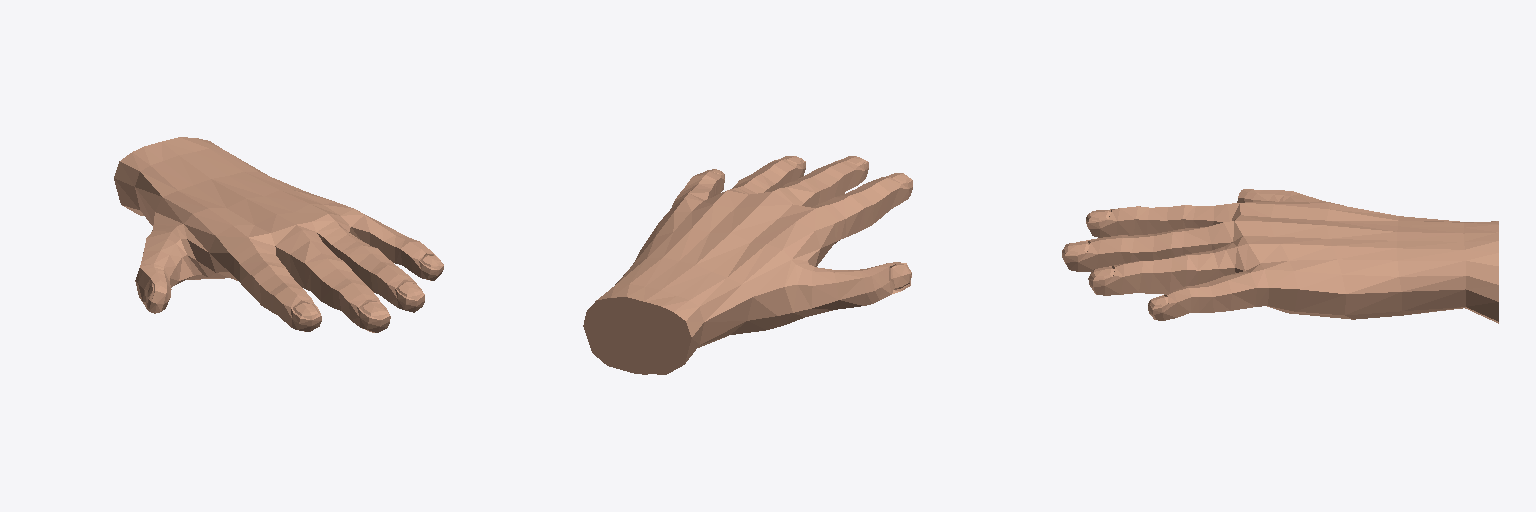
Rendered from hand.obj.
The picture shows the model from 3 angles: view 1: azimuth 30°, elevation 25°; view 2: azimuth 150°, elevation 25°; view 3: azimuth 270°, elevation 25°; orthographic projection.
Parts seen in each view (by area): view 1: Cube.002; view 2: Cube.002; view 3: Cube.002.
Boxes of the visible parts, x1,y1,x2,y2 form: Cube.002: [114, 137, 443, 332]; Cube.002: [583, 156, 912, 374]; Cube.002: [1062, 189, 1498, 323].
Size of the model in its own units: 0.8296 by 0.277 by 1.26.